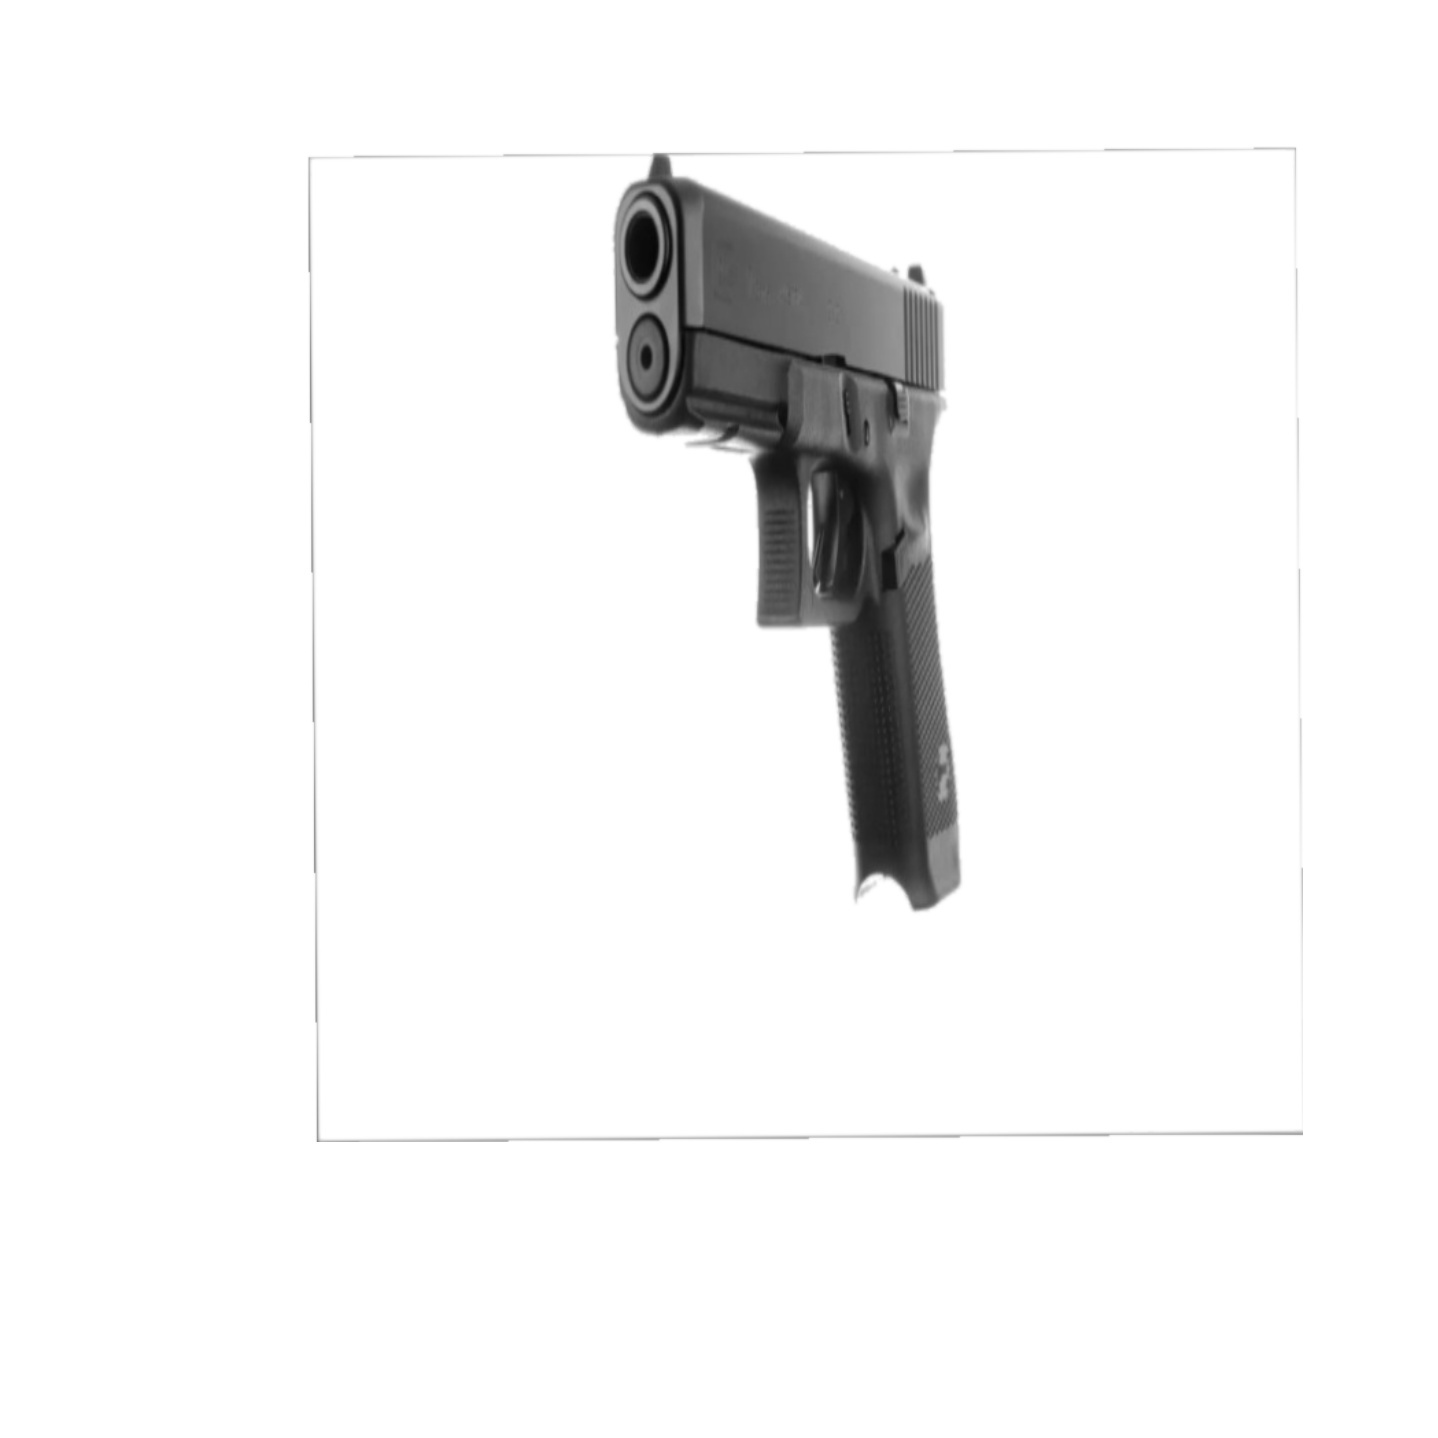gun: (599, 145, 986, 917)
